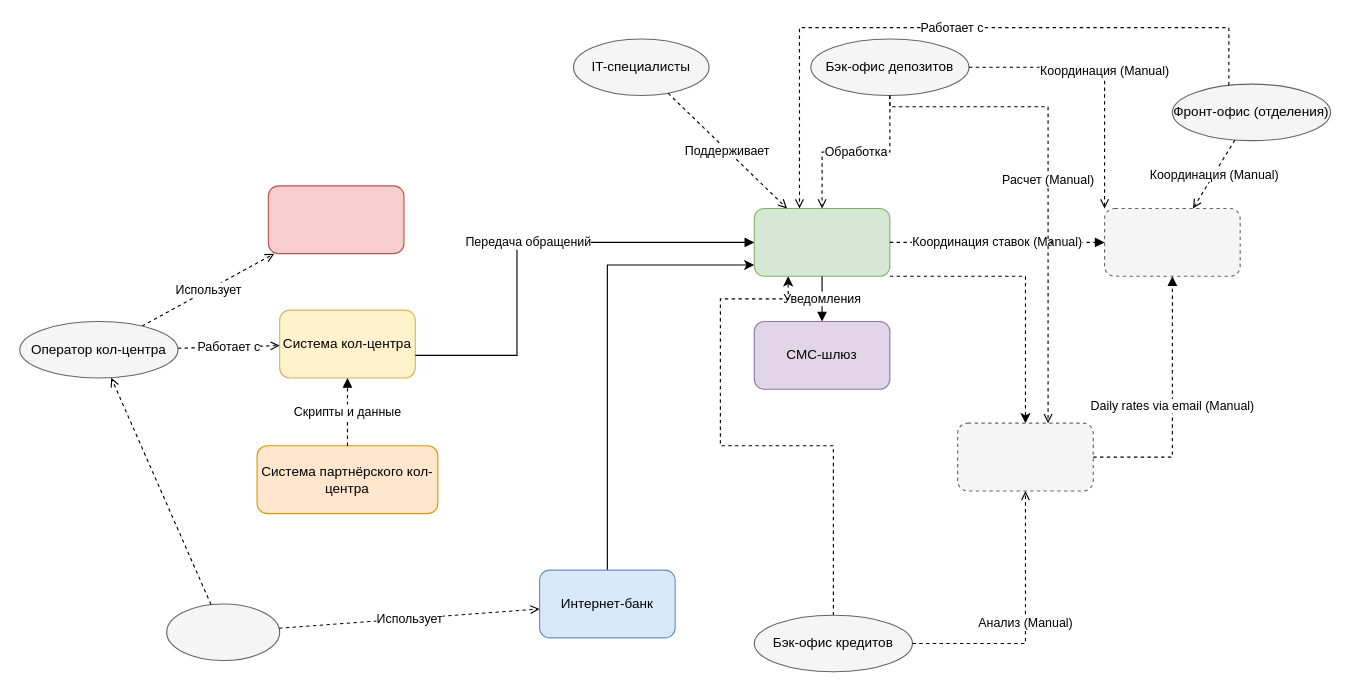
Image size: 1350x692. Some labels were removed from this diagram. Each missing label, with the box of its shape:
Email (Manual): (1103, 207, 1240, 276)
Excel files (Manual): (957, 422, 1093, 491)
АБС: (753, 207, 890, 276)
Клиент: (166, 603, 280, 660)
Сайт: (267, 185, 404, 254)
